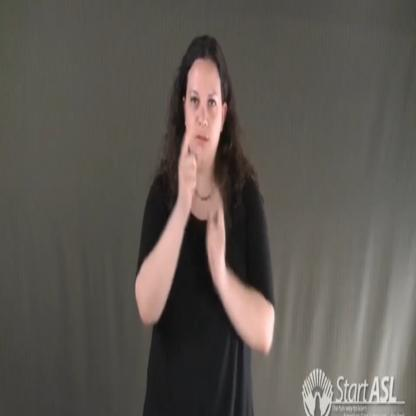NiceToMeetYou: (170, 127, 229, 280)
